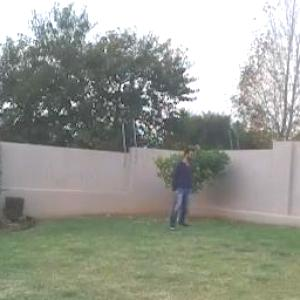follow: (169, 143, 197, 237)
